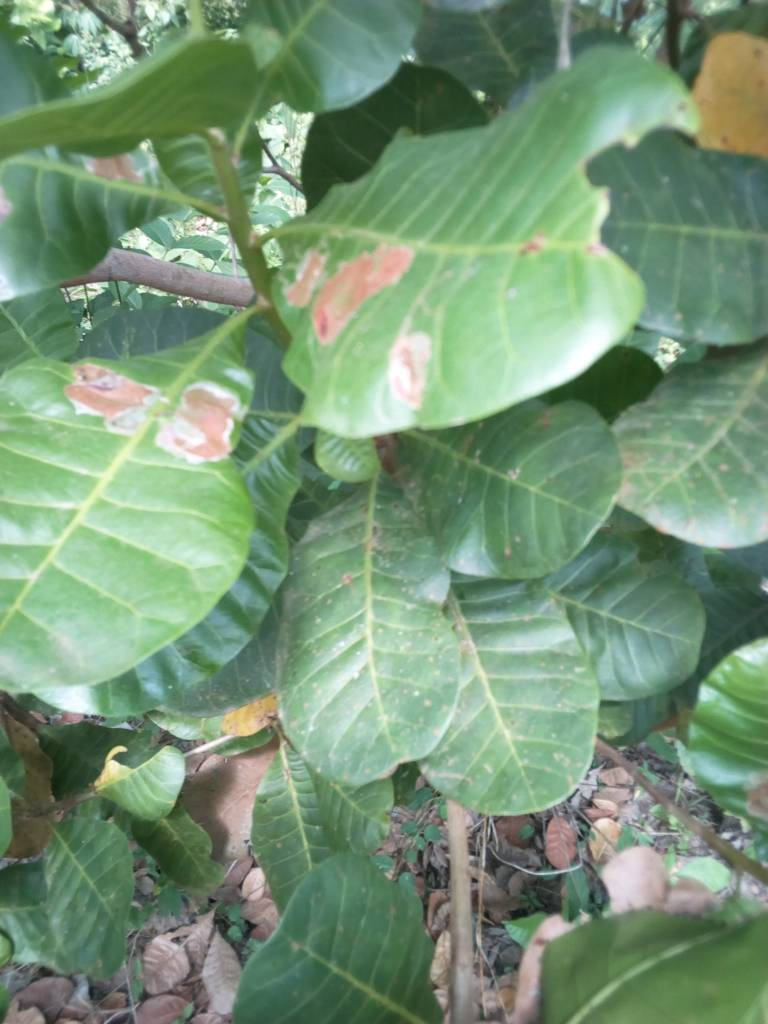Oidium: (269, 460, 471, 797), (393, 389, 633, 585), (591, 338, 768, 588)
